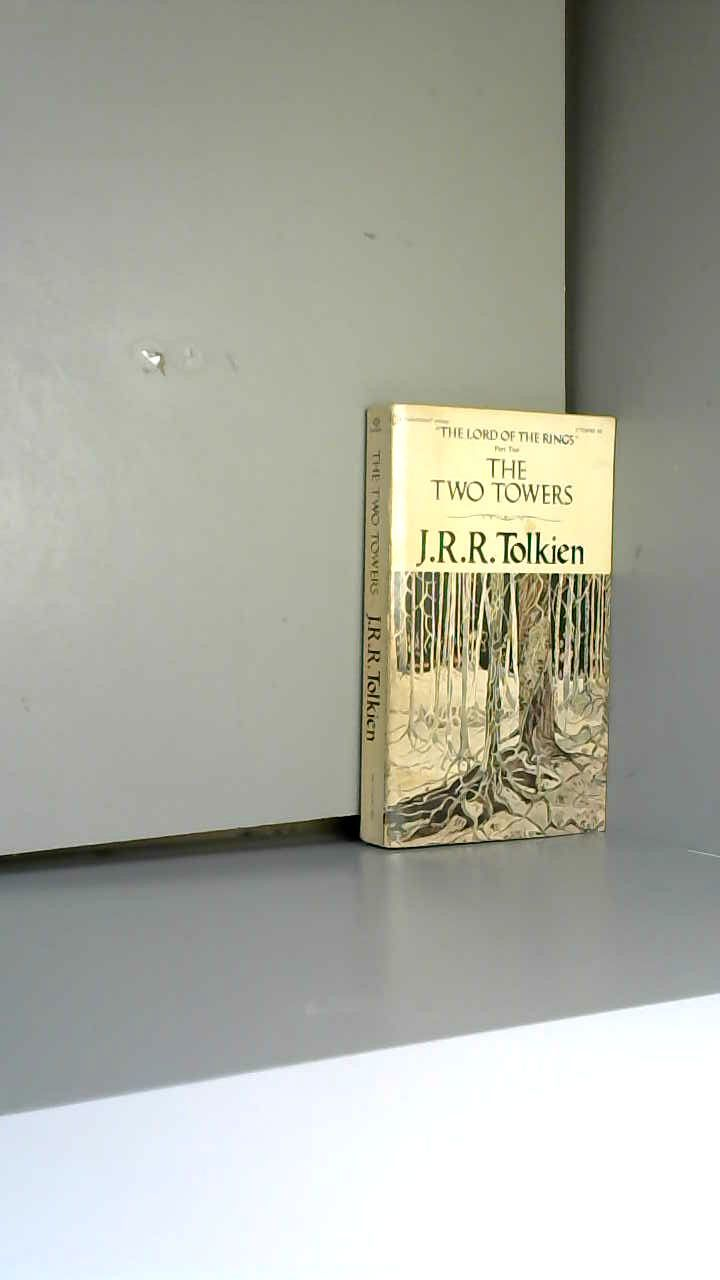book: (330, 380, 720, 899)
